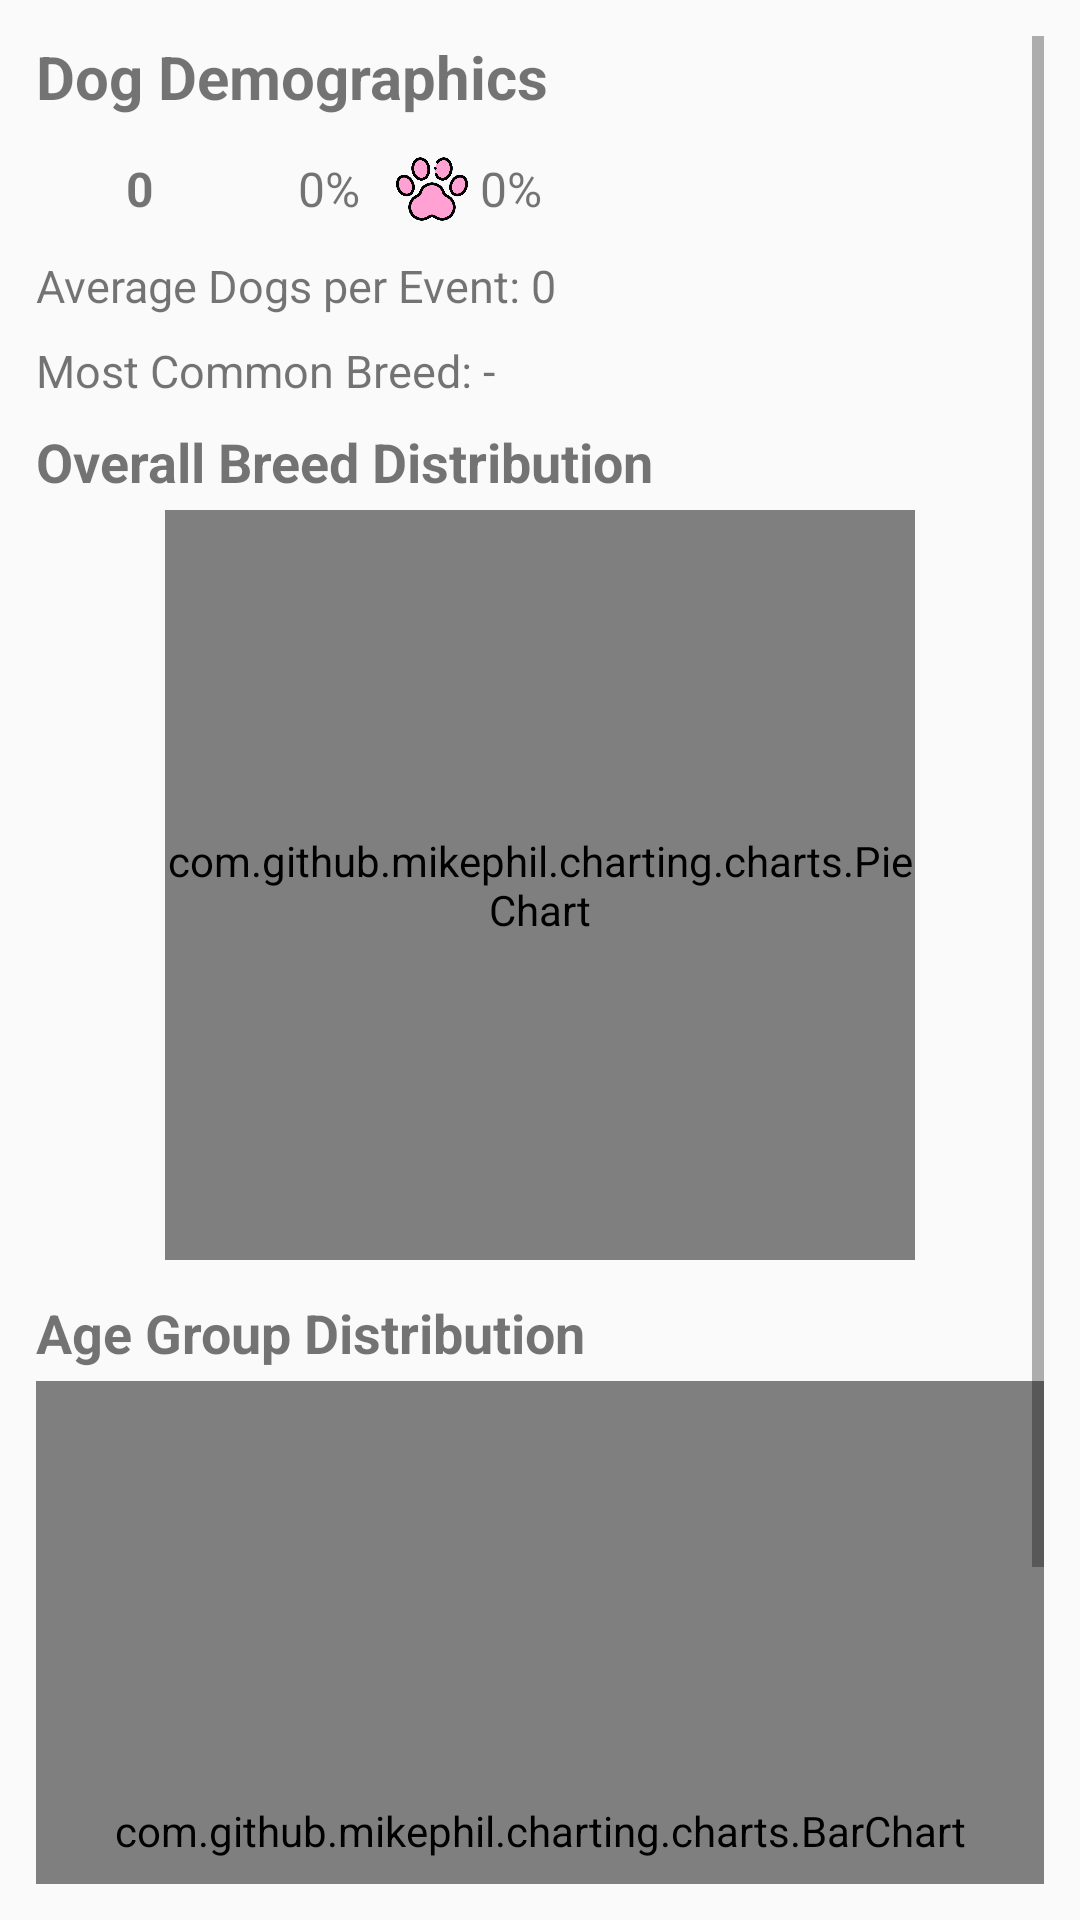

Point at icon controls on the screen. Image size 1080px×1920px, points as [x,y].
Female Dog Icon: [432,189]
